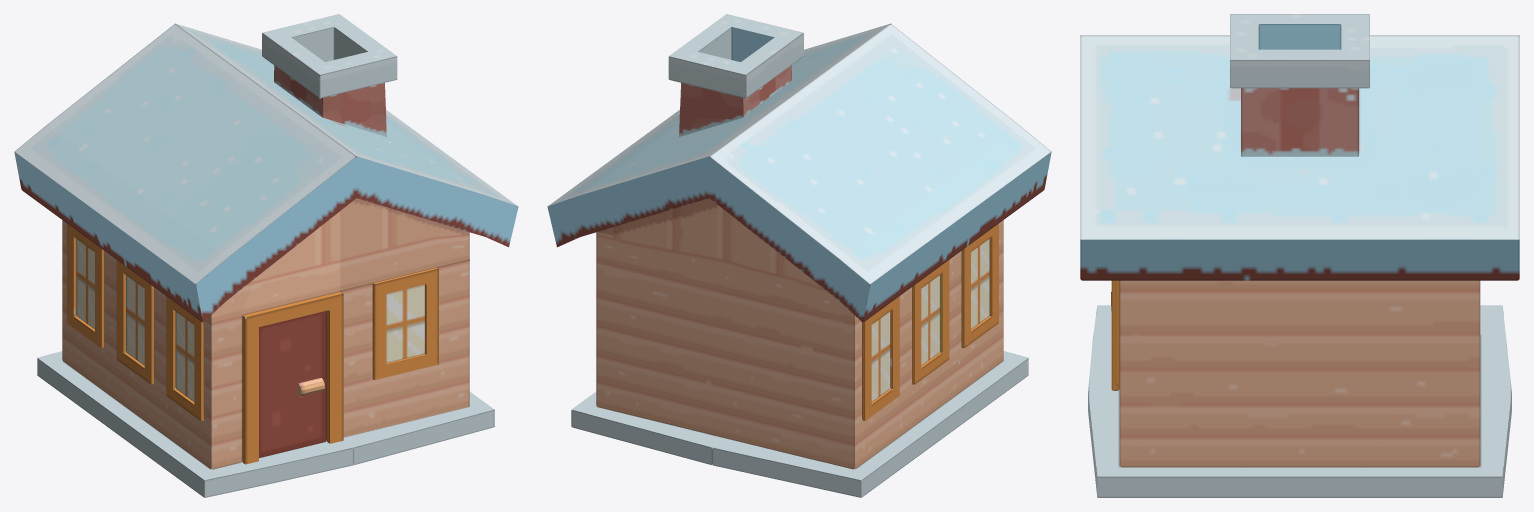
File: house1.fbx
The picture shows the model from 3 angles, left to right: view 1: azimuth 30°, elevation 25°; view 2: azimuth 150°, elevation 25°; view 3: azimuth 270°, elevation 25°; orthographic projection. The views are drawn at different scales.
Visible parts, largest first — view 1: house; view 2: house; view 3: house.
Part boxes in pixels (x1,y1,x2,y2): house: (14,14,518,497); house: (547,14,1051,497); house: (1080,14,1519,497).
Size of the model in its own units: 359 by 363 by 350.
Materials: 1 (1 with a texture image).
